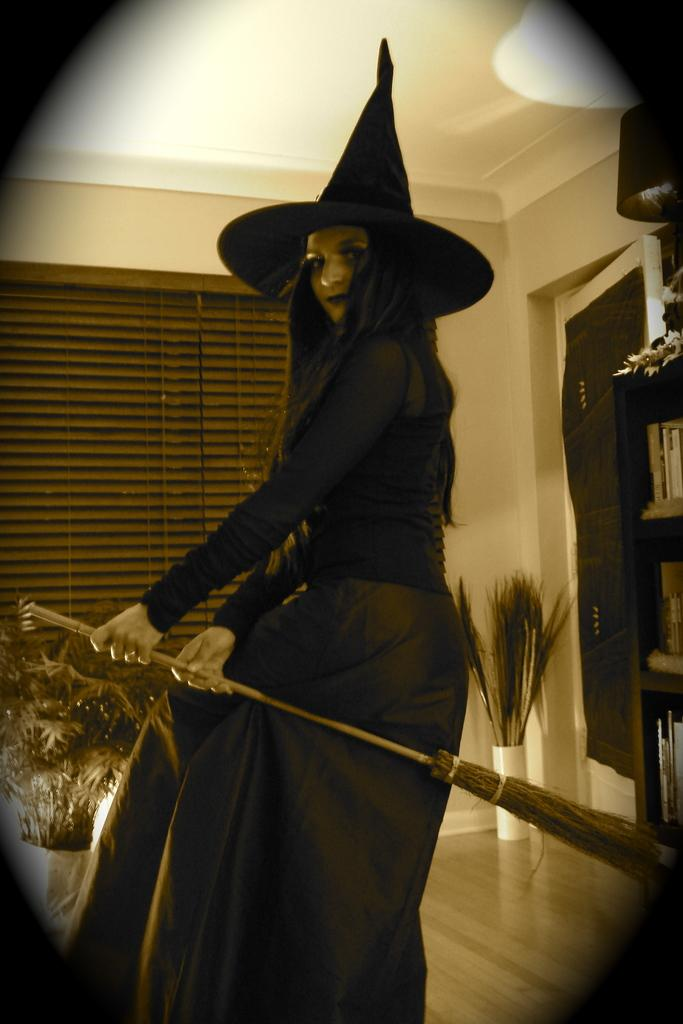Hat: (214, 36, 498, 323)
